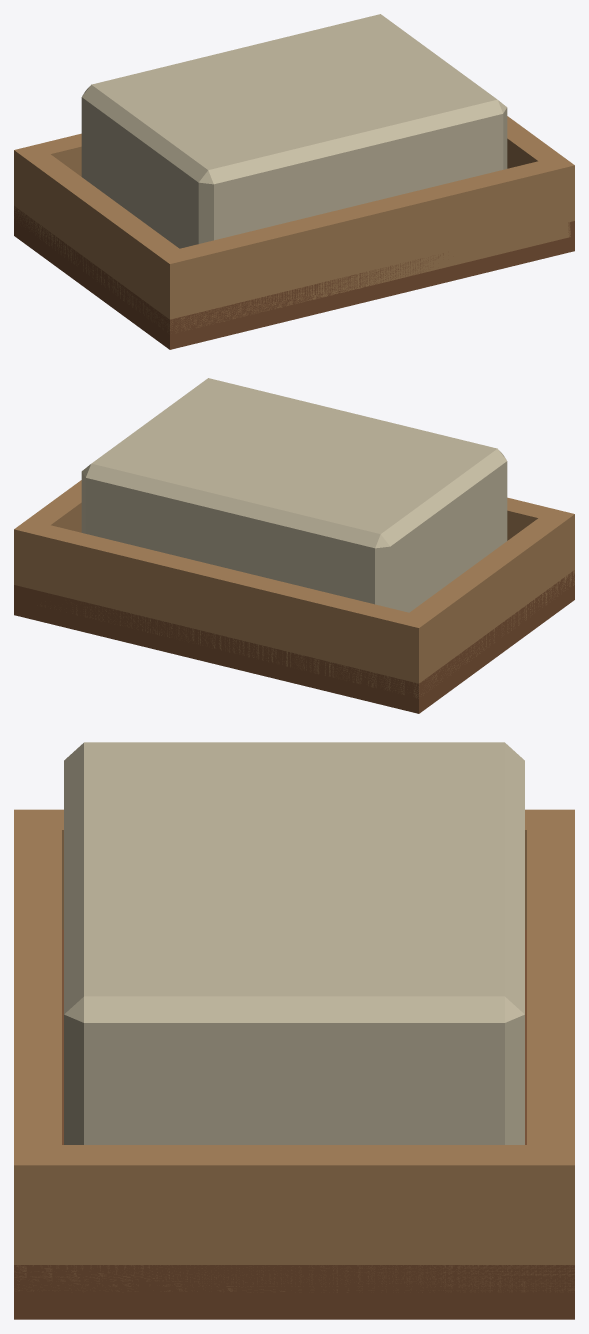
Rendered from set_pastry_box.glb.
3 views of the same model, one above another, from view 1: azimuth 30°, elevation 25°; view 2: azimuth 150°, elevation 25°; view 3: azimuth 270°, elevation 25° (orthographic). The views are drawn at different scales.
Visible parts, largest first — view 1: set_pastry_box; view 2: set_pastry_box; view 3: set_pastry_box.
Part boxes in pixels (x1,y1,x2,y2): set_pastry_box: (14,14,574,349); set_pastry_box: (14,378,574,713); set_pastry_box: (14,742,574,1319).
Size of the model in its own units: 0.42 by 0.15 by 0.28.
